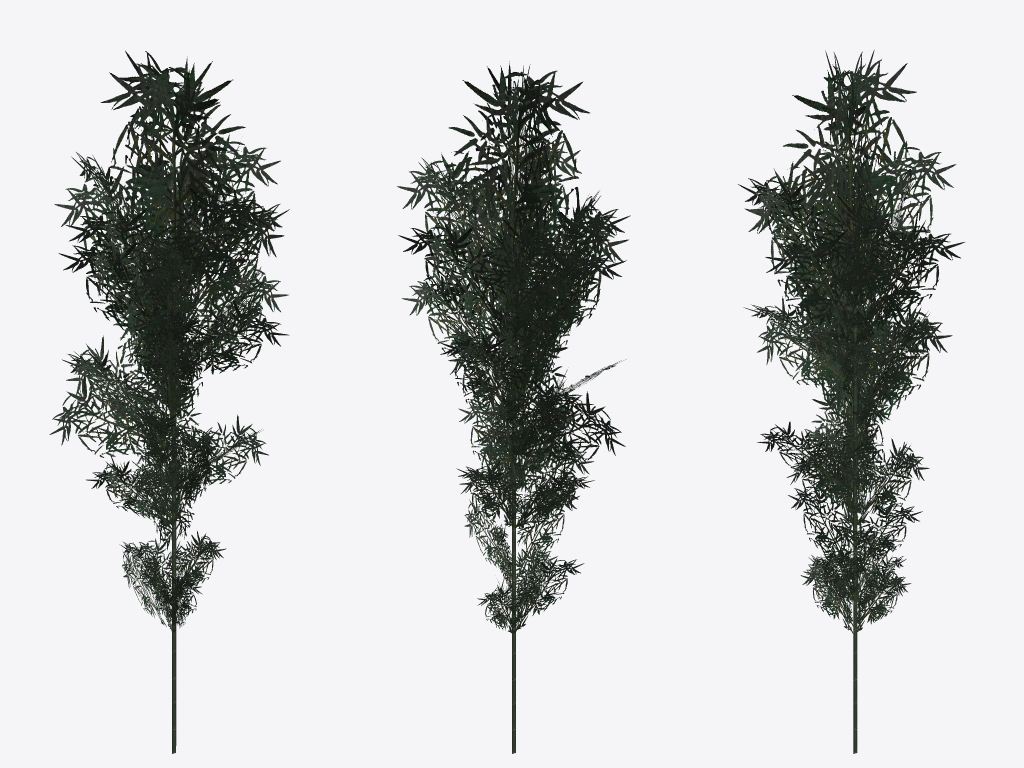
Rendered from bamboo_tree_tall2.fbx.
The picture shows the model from 3 angles, left to right: view 1: azimuth 30°, elevation 25°; view 2: azimuth 150°, elevation 25°; view 3: azimuth 270°, elevation 25°; orthographic projection.
Parts seen in each view (by area): view 1: mesh_64, mesh_63, mesh_65, mesh_44, mesh_23, mesh_35, mesh_39, mesh_45, mesh_28, mesh_41, mesh_22, mesh_37 (+35 smaller); view 2: mesh_65, mesh_64, mesh_42, mesh_33, mesh_48, mesh_40, mesh_23, mesh_34, mesh_62, mesh_32, mesh_46, mesh_45 (+35 smaller); view 3: mesh_63, mesh_35, mesh_34, mesh_64, mesh_47, mesh_19, mesh_42, mesh_28, mesh_44, mesh_65, mesh_43, mesh_38 (+35 smaller).
Boxes of the visible parts, box(x1,y1,x2,y2) form: mesh_64: box(100, 63, 246, 281); mesh_63: box(119, 50, 229, 266); mesh_65: box(126, 56, 220, 283); mesh_44: box(159, 188, 270, 300); mesh_23: box(49, 375, 171, 457); mesh_35: box(179, 188, 284, 331); mesh_39: box(58, 239, 173, 351); mesh_45: box(65, 206, 180, 314); mesh_28: box(178, 300, 289, 380); mesh_41: box(168, 134, 280, 293); mesh_22: box(130, 332, 203, 441); mesh_37: box(129, 247, 205, 360); mesh_65: box(445, 65, 589, 302); mesh_64: box(475, 61, 559, 302); mesh_42: box(397, 151, 509, 303); mesh_33: box(398, 223, 511, 345); mesh_48: box(486, 218, 575, 327); mesh_40: box(513, 246, 626, 363); mesh_23: box(514, 391, 625, 465); mesh_34: box(424, 206, 511, 345); mesh_62: box(505, 379, 593, 453); mesh_32: box(479, 301, 551, 410); mesh_46: box(516, 204, 630, 321); mesh_45: box(520, 191, 609, 327); mesh_63: box(783, 59, 916, 302); mesh_35: box(765, 232, 872, 343); mesh_34: box(852, 226, 964, 343); mesh_64: box(819, 49, 878, 297); mesh_47: box(846, 144, 956, 300); mesh_19: box(856, 305, 952, 422); mesh_42: box(824, 195, 907, 308); mesh_28: box(757, 296, 852, 386); mesh_44: box(749, 161, 852, 307); mesh_65: box(823, 50, 874, 302); mesh_43: box(738, 176, 852, 306); mesh_38: box(744, 184, 857, 338).
Bounding box in the file's own units: 882 × 2128 × 864.
1 material, 1 textured.
